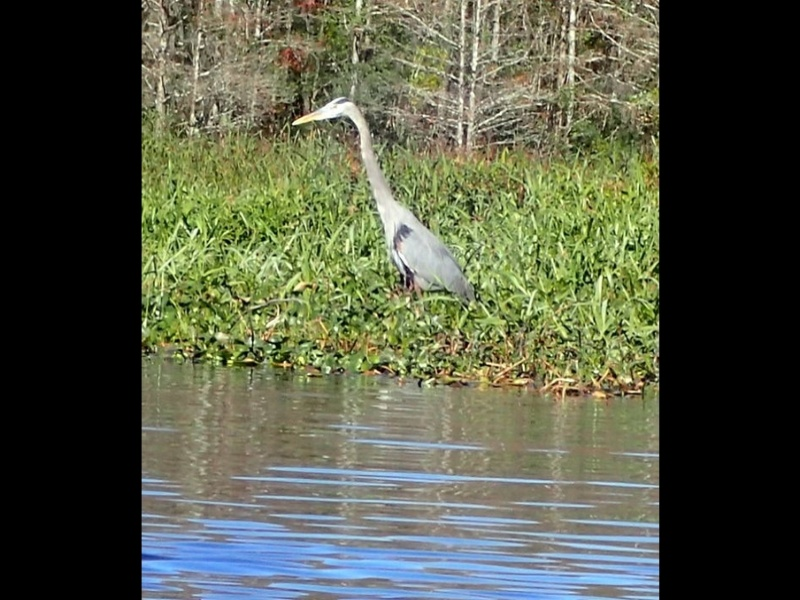heron: (290, 93, 487, 322)
